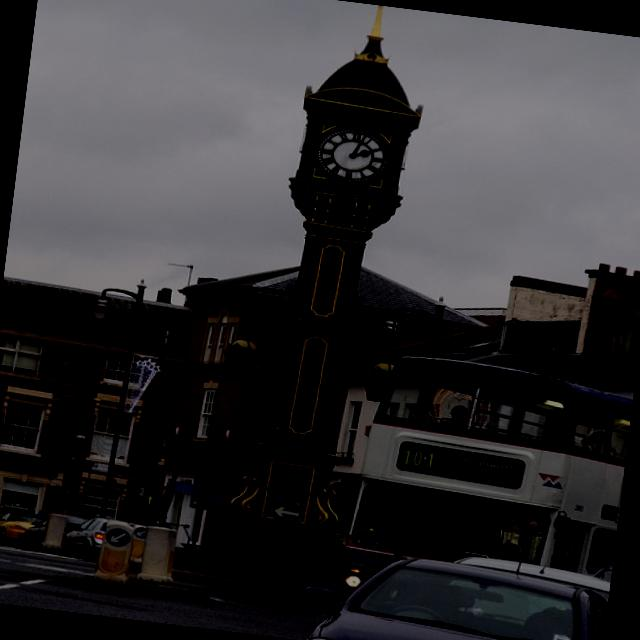Vehicle: (336, 352, 634, 636), (295, 528, 612, 640), (444, 552, 612, 636), (20, 510, 85, 552), (58, 514, 110, 560), (0, 508, 44, 550), (588, 551, 614, 596)
